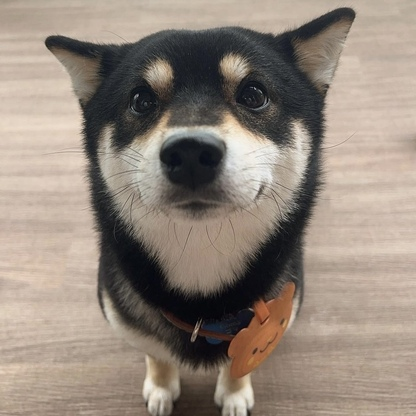shiba: (40, 5, 361, 416)
